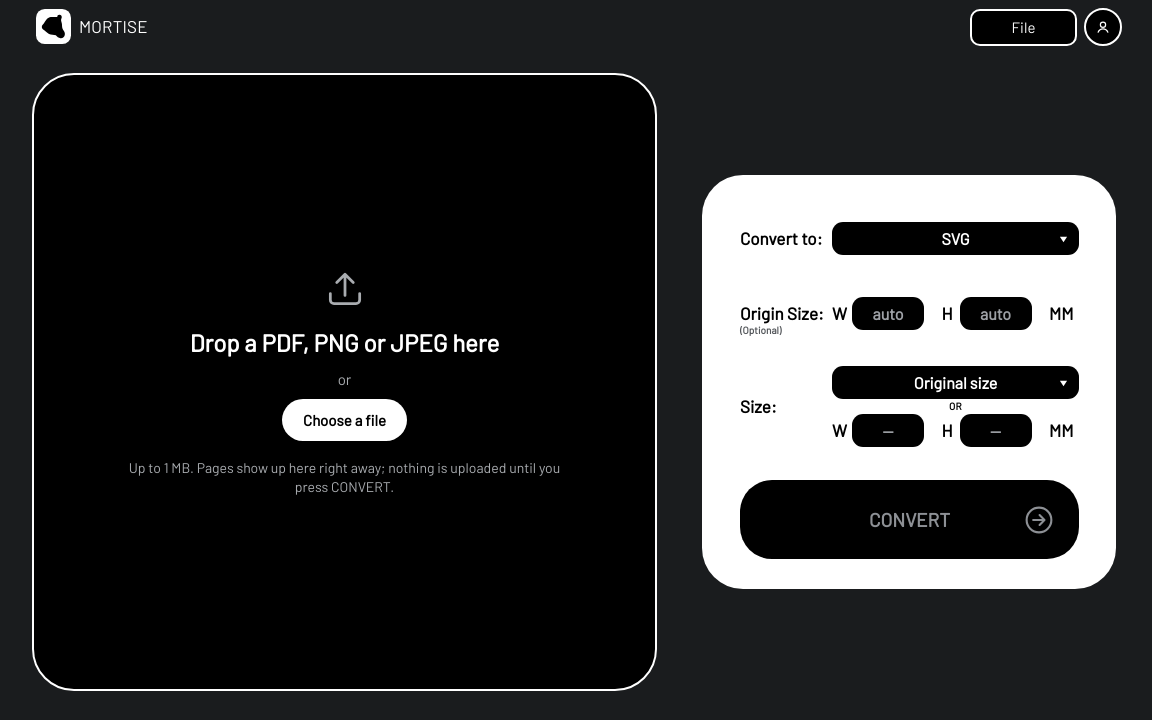
Scenario: App › stores the training consent (off by default)
The width and height of the screenshot is (1152, 720).
Click the button named "Account" at (1103, 27), box x1=1084 y1=8 x2=1122 y2=46
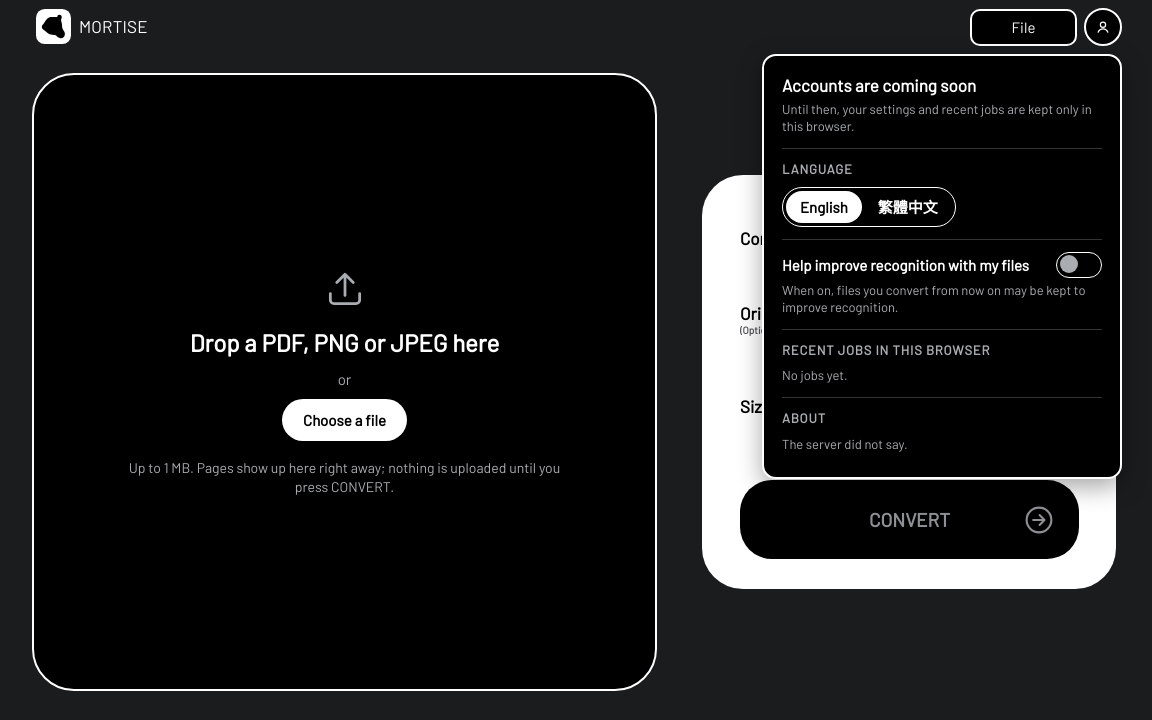
Click the switch named "Help improve recognition with my files" at (1079, 265), box x1=1056 y1=252 x2=1102 y2=278
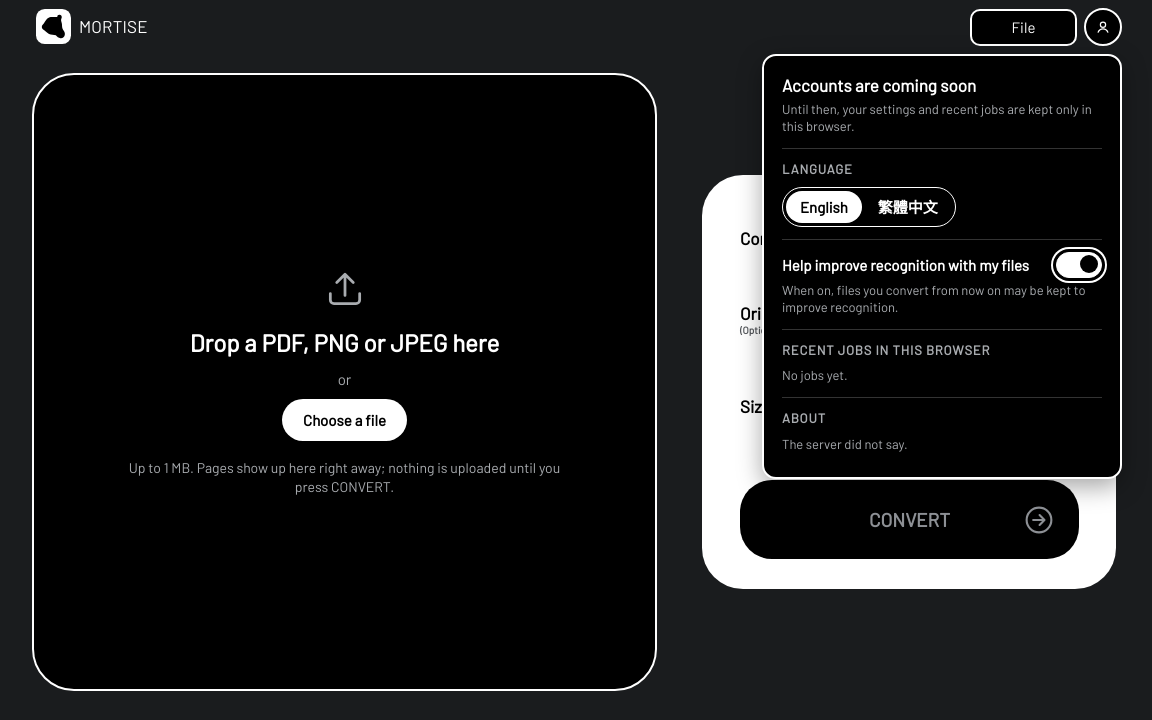
Result: the switch named "Help improve recognition with my files" is checked at x1=1056 y1=252 x2=1102 y2=278
